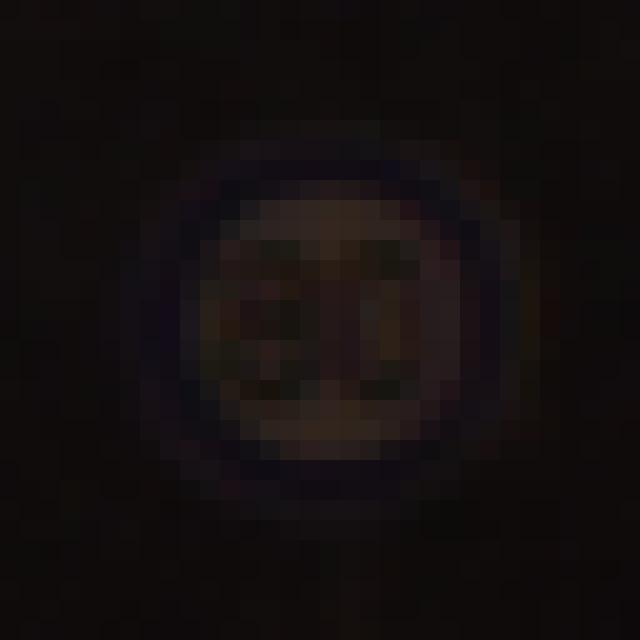SPEED-LIMIT-80: (153, 162, 512, 486)
